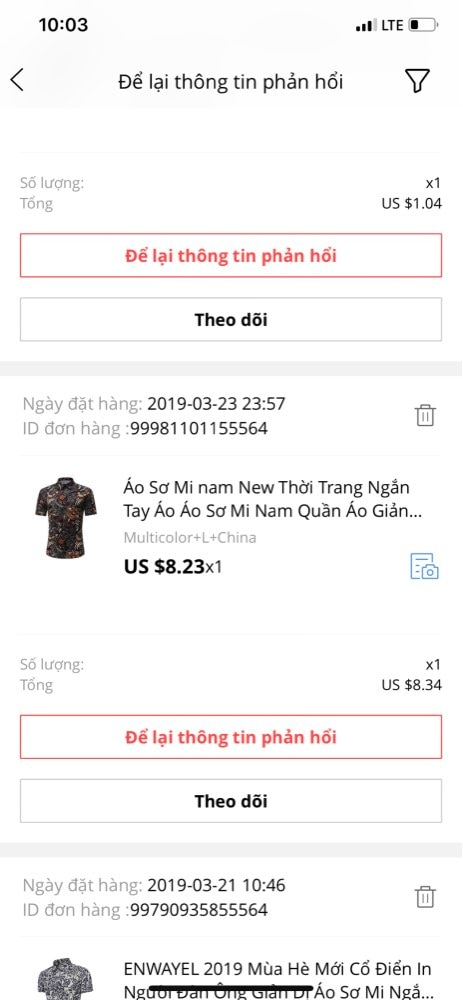shirts: (35, 473, 98, 561)
